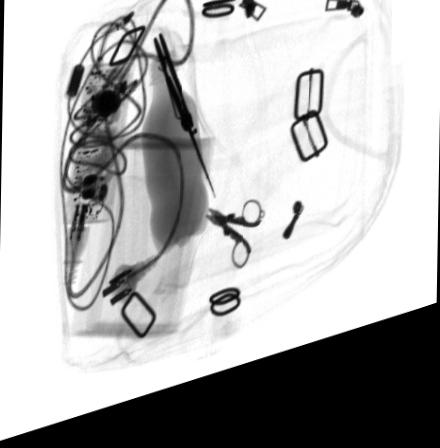Knife: (152, 44, 216, 214)
Scissors: (204, 215, 263, 283)
